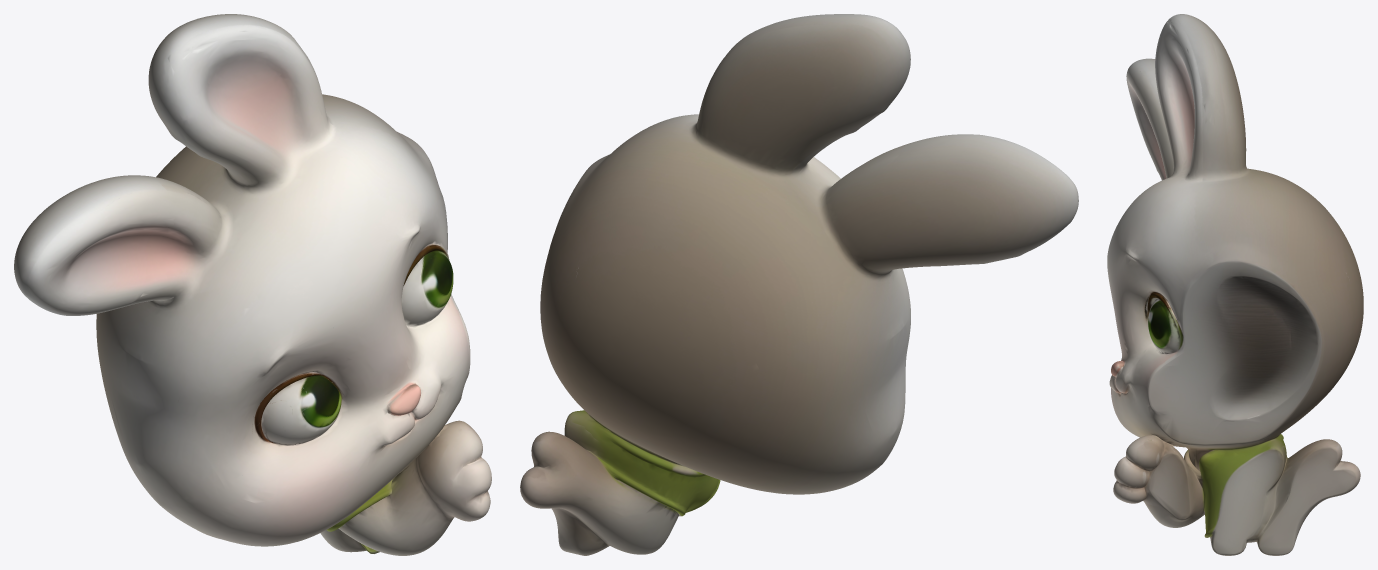
File: rabbit-edge-right.glb
3 renders of one model, left to right at view 1: azimuth 30°, elevation 25°; view 2: azimuth 150°, elevation 25°; view 3: azimuth 270°, elevation 25°, orthographic. The views are drawn at different scales.
Parts seen in each view (by area): view 1: node_0; view 2: node_0; view 3: node_0.
Part boxes in pixels (x1=…): node_0: x1=14, y1=14, x2=491, y2=555; node_0: x1=520, y1=14, x2=1078, y2=555; node_0: x1=1107, y1=14, x2=1363, y2=555.
Size of the model in its own units: 0.772 by 0.9397 by 0.4893.
Materials: 1 (1 with a texture image).
